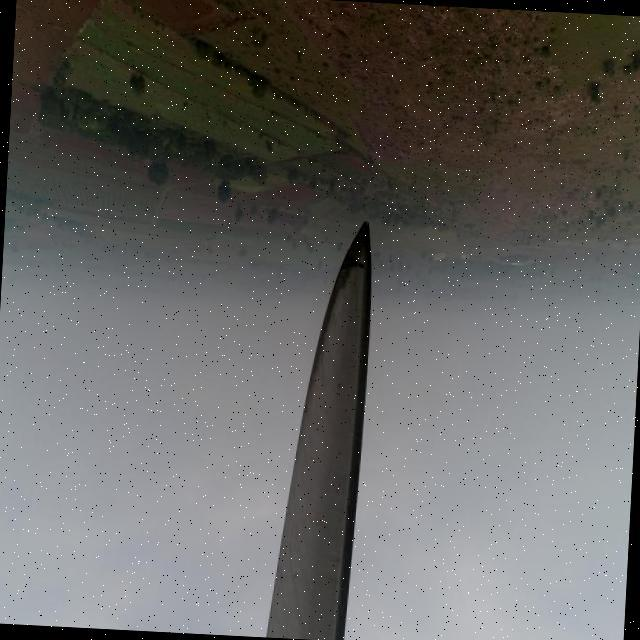Dirt: (264, 221, 383, 640)
Oil LEAKAGE: (316, 219, 369, 315)
Pin Hole: (345, 259, 373, 275)
